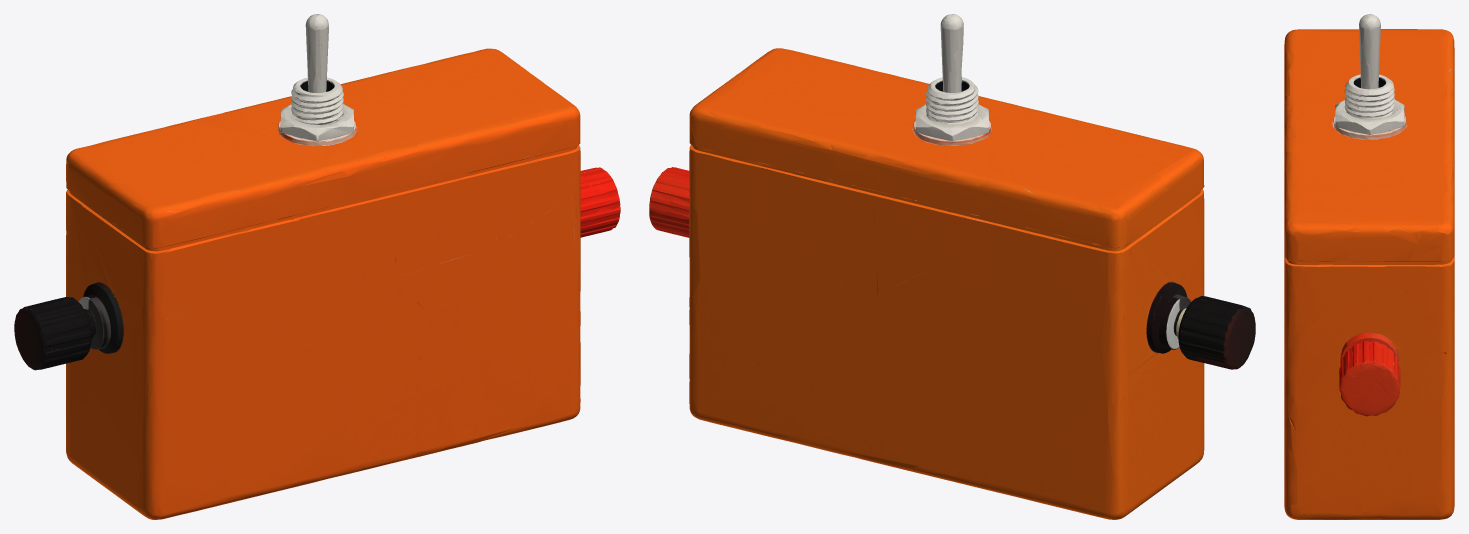
File: Meshy_AI_Switch_Battery_Box_Re_0924171225_texture.glb
3 views of the same model, side by side, from view 1: azimuth 30°, elevation 25°; view 2: azimuth 150°, elevation 25°; view 3: azimuth 270°, elevation 25° (orthographic). The views are drawn at different scales.
Visible parts, largest first — view 1: output_unwrapped; view 2: output_unwrapped; view 3: output_unwrapped.
Part boxes in pixels (left/top/right/bottom): output_unwrapped: left=14, top=14, right=620, bottom=519; output_unwrapped: left=649, top=14, right=1255, bottom=519; output_unwrapped: left=1284, top=14, right=1454, bottom=519.
Bounding box in the file's own units: 1.9 × 1.34 × 0.5123.
Materials: 1 (1 with a texture image).
